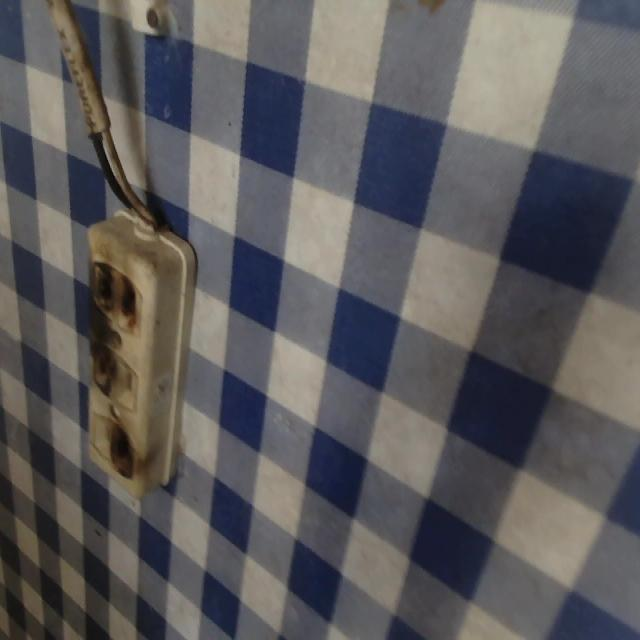-: (89, 254, 139, 326), (106, 421, 134, 480), (89, 341, 118, 395)
